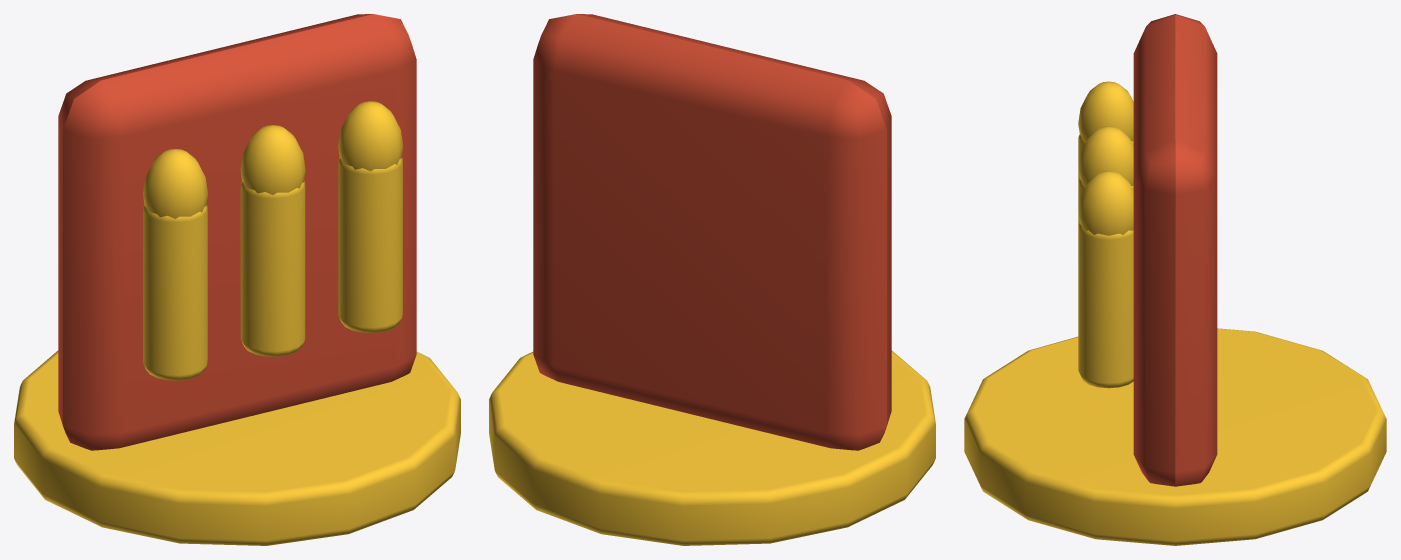
Rendered from COM-POWER-02.glb.
3 renders of one model, left to right at view 1: azimuth 30°, elevation 25°; view 2: azimuth 150°, elevation 25°; view 3: azimuth 270°, elevation 25°, orthographic. The views are drawn at different scales.
Visible parts, largest first — view 1: badge, base, bullet.001, bullet, bullet.002, tip.002, tip.001, tip; view 2: badge, base; view 3: base, badge, bullet.002, tip.002, tip.001, tip.
Boxes of the visible parts, x1,y1,x2,y2 form: badge: (58,14,416,450); base: (14,350,460,545); bullet.001: (240,181,305,356); bullet: (143,205,207,380); bullet.002: (338,157,402,332); tip.002: (338,101,403,171); tip.001: (240,125,305,194); tip: (143,149,207,218); badge: (533,14,891,450); base: (489,350,935,545); base: (964,328,1386,545); badge: (1133,14,1217,486); bullet.002: (1078,224,1133,388); tip.002: (1078,171,1133,235); tip.001: (1078,126,1133,185); tip: (1078,81,1133,141).
Bounding box in the file's own units: 0.76 × 0.76 × 0.76.
